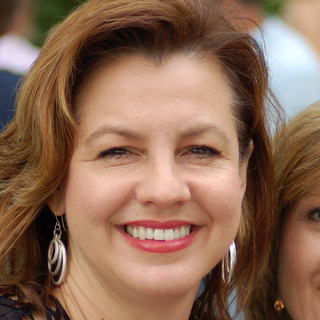eye: (93, 141, 144, 164), (176, 140, 225, 163)
